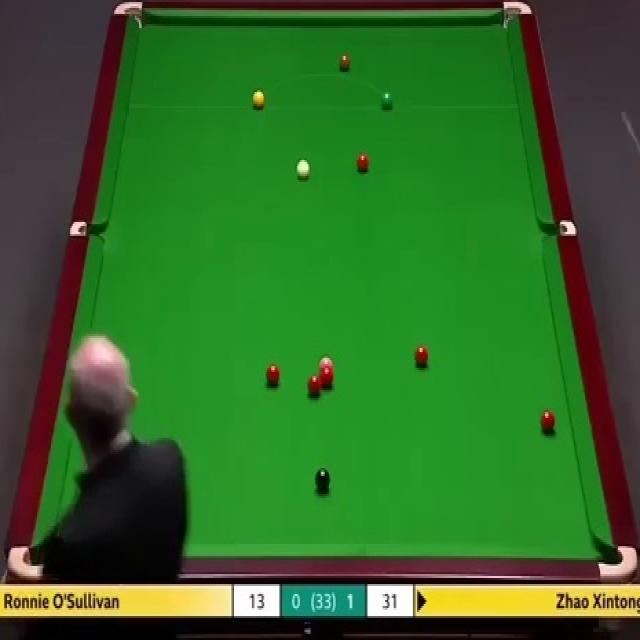pocket: (598, 546, 636, 581), (9, 546, 43, 577), (501, 3, 532, 28), (115, 2, 144, 28), (71, 219, 103, 240), (542, 220, 575, 240)
